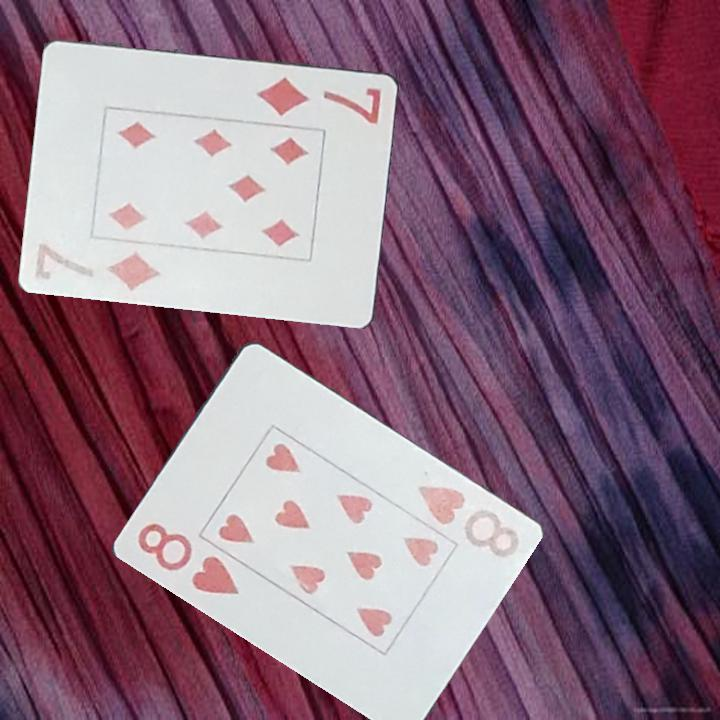7d: (32, 239, 165, 294), (253, 73, 385, 127)
8h: (413, 481, 522, 561), (133, 519, 242, 598)
